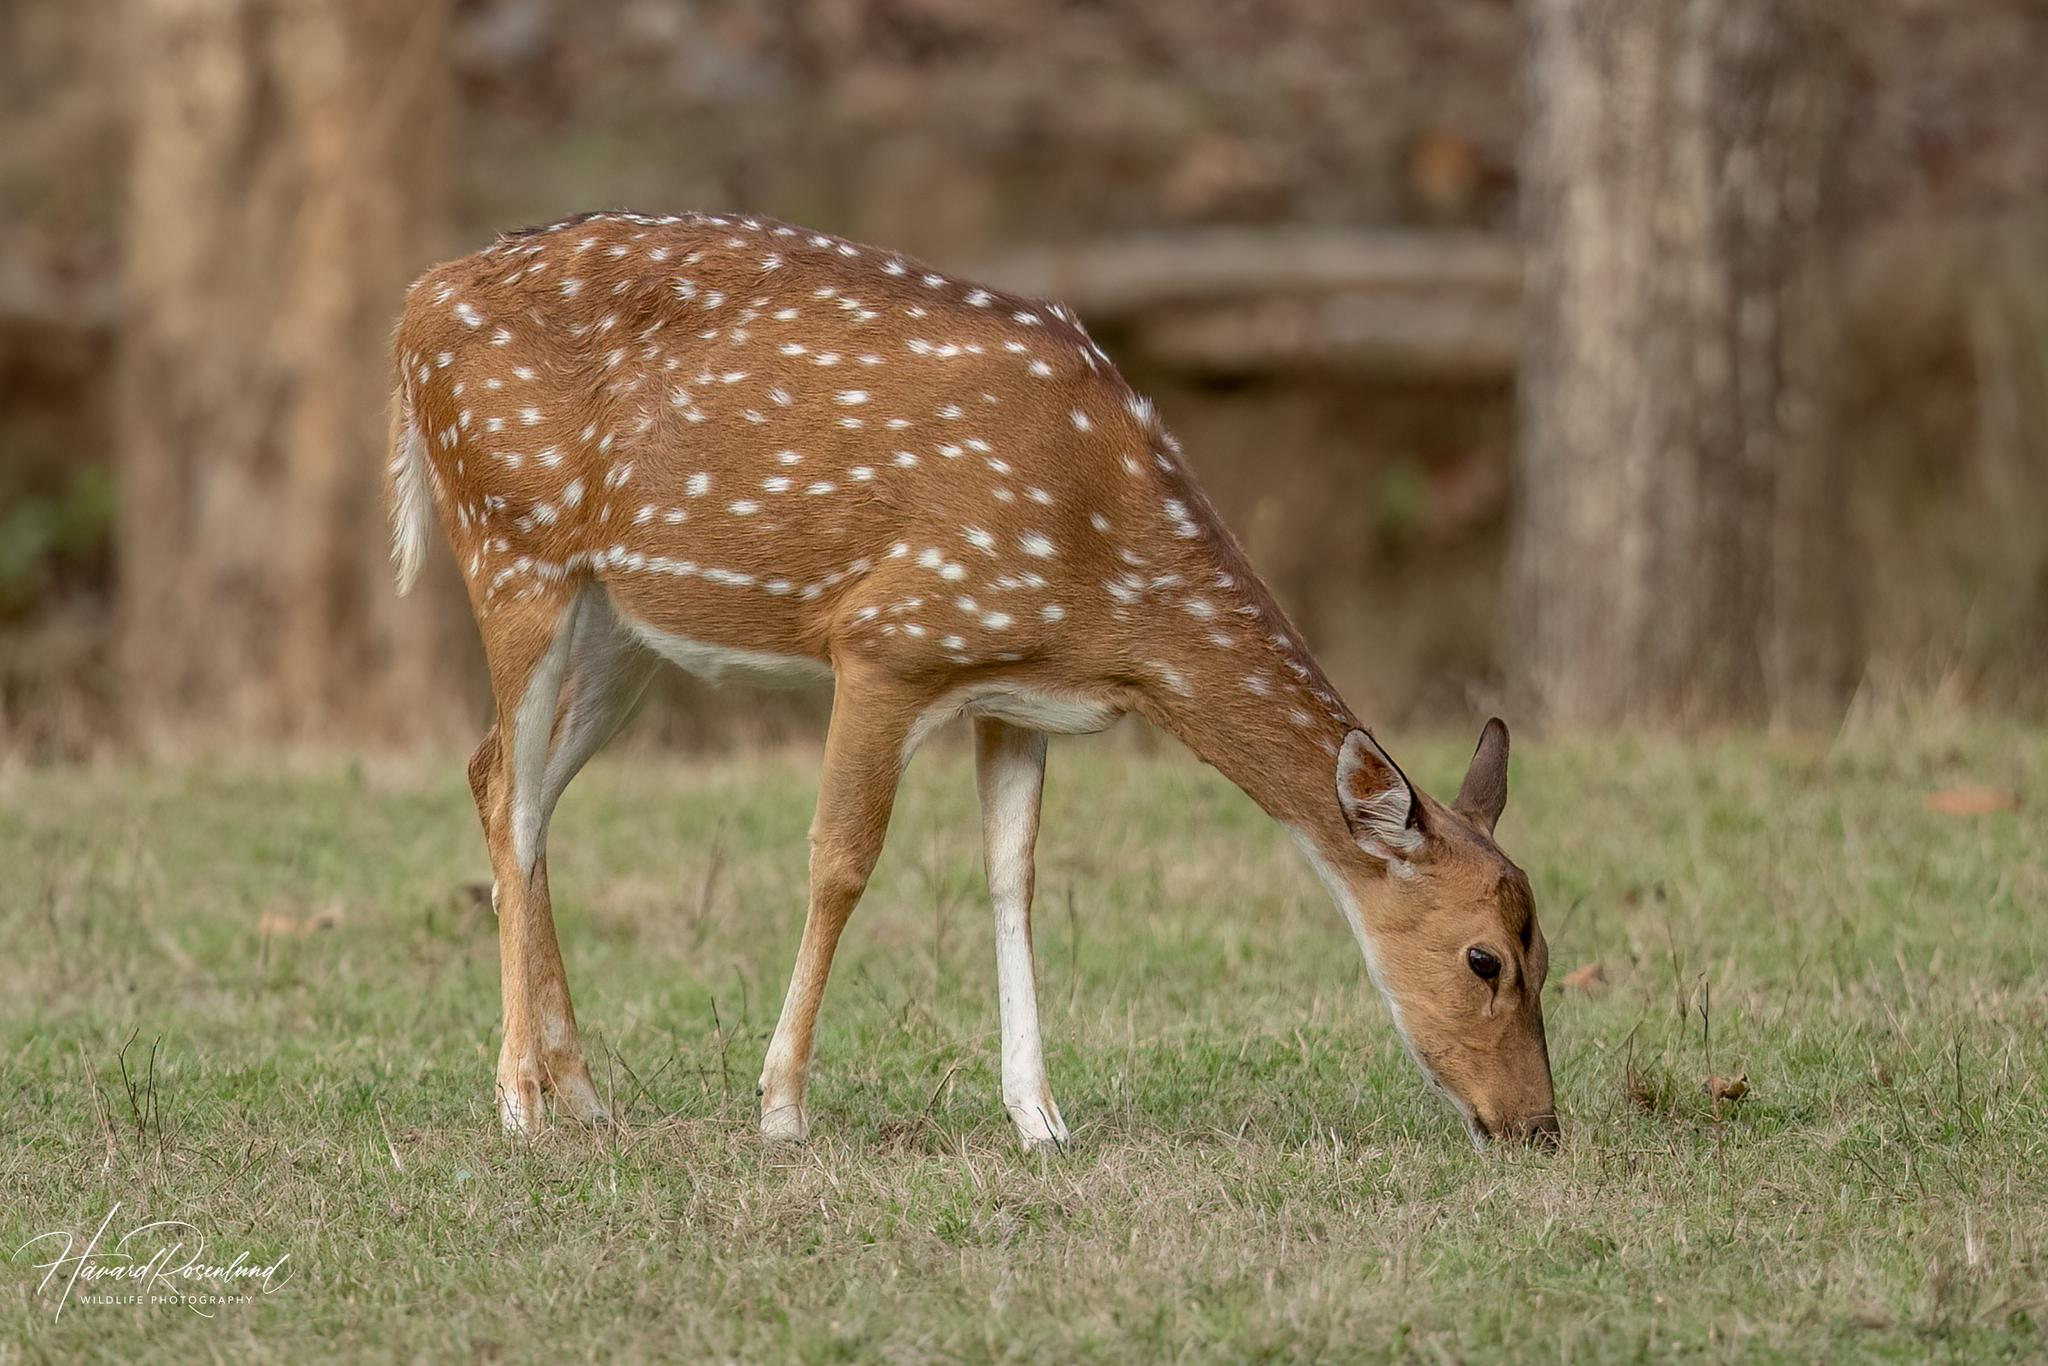Deer: (392, 213, 1557, 1143)
